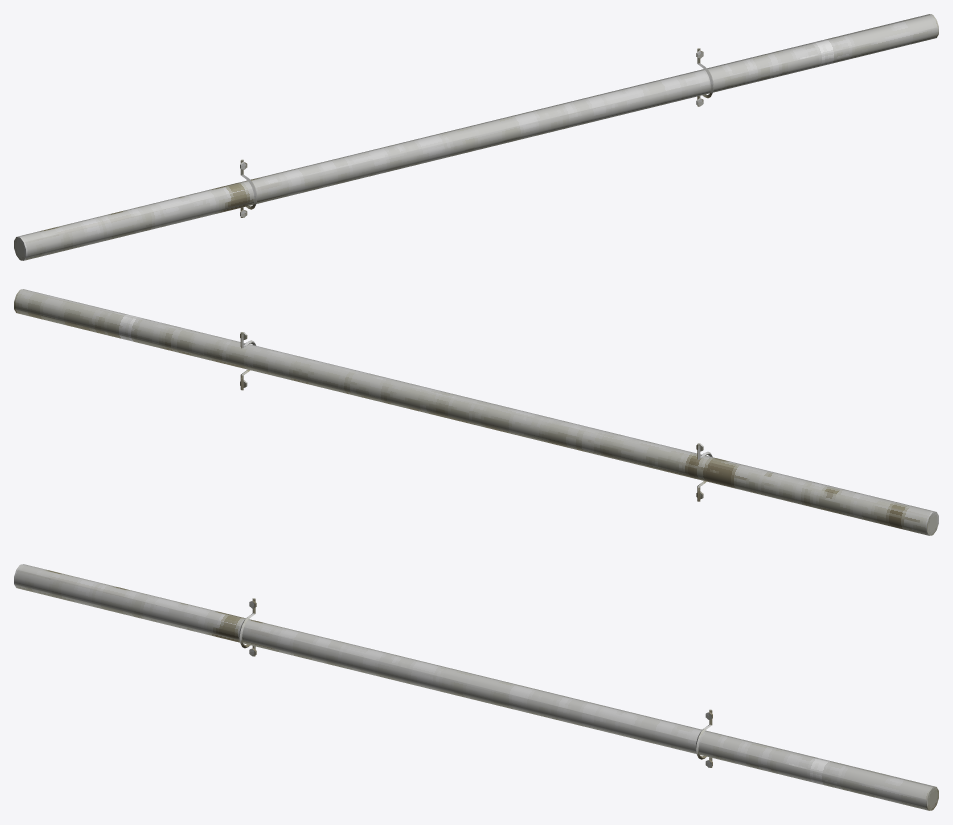
File: gk_conduit.glb
The picture shows the model from 3 angles, top to bottom: view 1: azimuth 30°, elevation 25°; view 2: azimuth 150°, elevation 25°; view 3: azimuth 330°, elevation 25°; orthographic projection.
Parts seen in each view (by area): view 1: mesh; view 2: mesh; view 3: mesh.
Part boxes in pixels (x1=…): mesh: x1=14, y1=14, x2=938, y2=260; mesh: x1=14, y1=289, x2=938, y2=535; mesh: x1=14, y1=564, x2=938, y2=810.
Bounding box in the file's own units: 1 × 0.0599 × 0.0291.
Materials: 1 (1 with a texture image).
